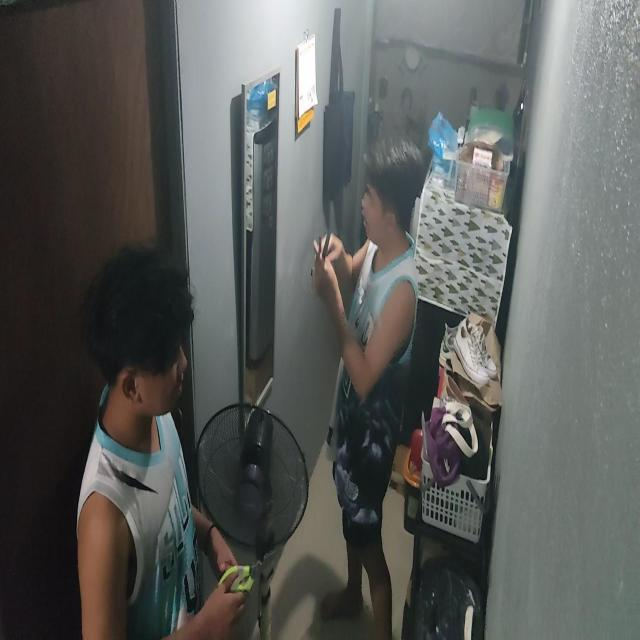scissor: (217, 544, 285, 610)
